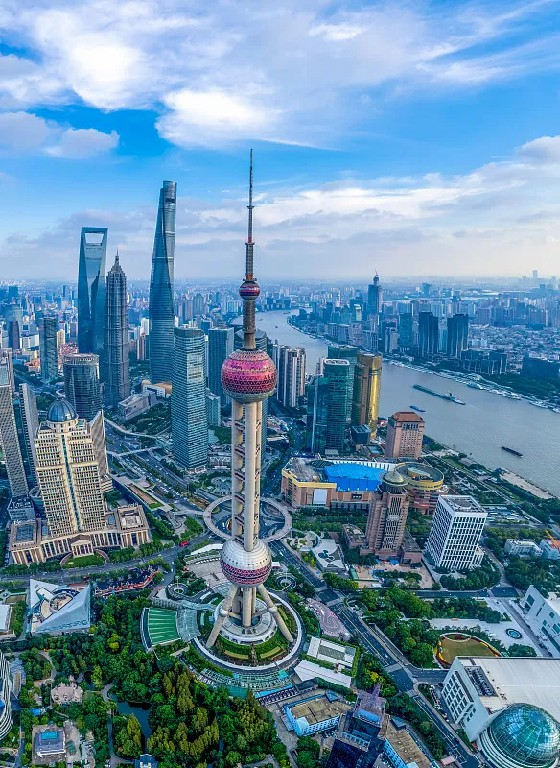Oriental: (205, 149, 295, 647)
